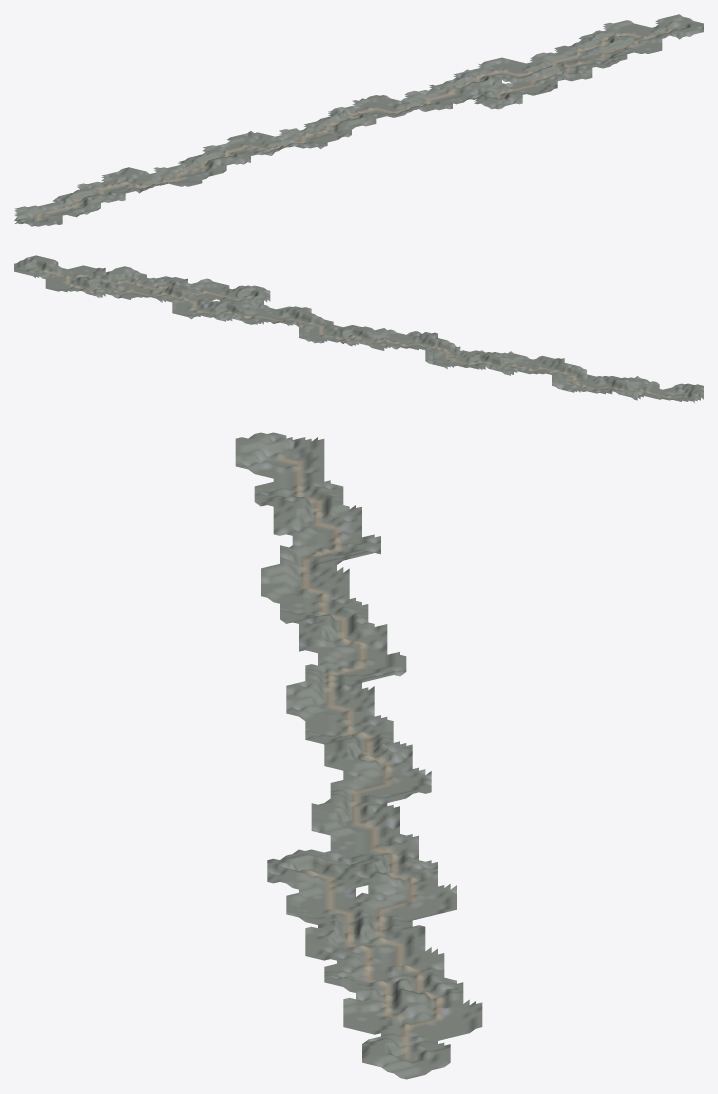
File: terrain.glb
The picture shows the model from 3 angles, top to bottom: view 1: azimuth 30°, elevation 25°; view 2: azimuth 150°, elevation 25°; view 3: azimuth 270°, elevation 25°; orthographic projection. The views are drawn at different scales.
Visible parts, largest first — view 1: NATURAL_13_-2, NATURAL_14_-2, NATURAL_15_-2, NATURAL_4_-1, NATURAL_3_-1, NATURAL_9_-2, NATURAL_12_-2, NATURAL_2_-1, NATURAL_11_-2, NATURAL_11_-1, NATURAL_16_-2, NATURAL_1_-1 (+14 smaller); view 2: NATURAL_2_-1, NATURAL_11_-1, NATURAL_15_-2, NATURAL_12_-2, NATURAL_14_-2, NATURAL_16_-2, NATURAL_6_-1, NATURAL_13_-2, NATURAL_4_-1, NATURAL_1_-1, NATURAL_11_-2, NATURAL_12_-1 (+17 smaller); view 3: NATURAL_12_-2, NATURAL_15_-2, NATURAL_11_-1, NATURAL_14_-2, NATURAL_3_-1, NATURAL_2_-1, NATURAL_13_-2, NATURAL_9_-2, NATURAL_6_-1, NATURAL_1_-1, NATURAL_16_-2, NATURAL_4_-1 (+18 smaller).
Boxes of the visible parts, x1,y1,x2,y2 form: NATURAL_13_-2: (499, 52, 577, 76); NATURAL_14_-2: (544, 45, 622, 65); NATURAL_15_-2: (582, 36, 662, 53); NATURAL_4_-1: (168, 155, 236, 178); NATURAL_3_-1: (122, 167, 204, 185); NATURAL_9_-2: (342, 96, 412, 116); NATURAL_12_-2: (457, 67, 539, 85); NATURAL_2_-1: (80, 177, 162, 198); NATURAL_11_-2: (429, 75, 497, 97); NATURAL_11_-1: (457, 85, 535, 104); NATURAL_16_-2: (628, 24, 703, 45); NATURAL_1_-1: (52, 186, 121, 208); NATURAL_2_-1: (568, 363, 605, 393); NATURAL_11_-1: (226, 284, 263, 312); NATURAL_15_-2: (74, 267, 111, 291); NATURAL_12_-2: (188, 293, 225, 320); NATURAL_14_-2: (112, 272, 149, 297); NATURAL_16_-2: (36, 255, 73, 284); NATURAL_6_-1: (416, 331, 453, 357); NATURAL_13_-2: (150, 283, 187, 312); NATURAL_4_-1: (492, 351, 529, 374); NATURAL_1_-1: (606, 376, 643, 400); NATURAL_11_-2: (226, 301, 263, 324); NATURAL_12_-1: (188, 278, 225, 301); NATURAL_12_-2: (356, 863, 431, 921); NATURAL_15_-2: (356, 975, 431, 1031); NATURAL_11_-1: (280, 848, 355, 898); NATURAL_14_-2: (356, 933, 431, 989); NATURAL_3_-1: (280, 548, 355, 606); NATURAL_2_-1: (280, 508, 355, 565); NATURAL_13_-2: (356, 903, 431, 957); NATURAL_9_-2: (356, 754, 431, 810); NATURAL_6_-1: (286, 661, 355, 713); NATURAL_1_-1: (280, 480, 355, 529); NATURAL_16_-2: (362, 1014, 431, 1062); NATURAL_4_-1: (280, 587, 355, 635).
Bounding box in the file's own units: 389 × 2.9 × 63.18.
